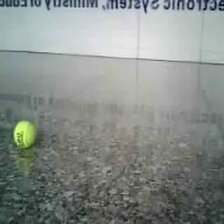tennis: (13, 121, 37, 149)
